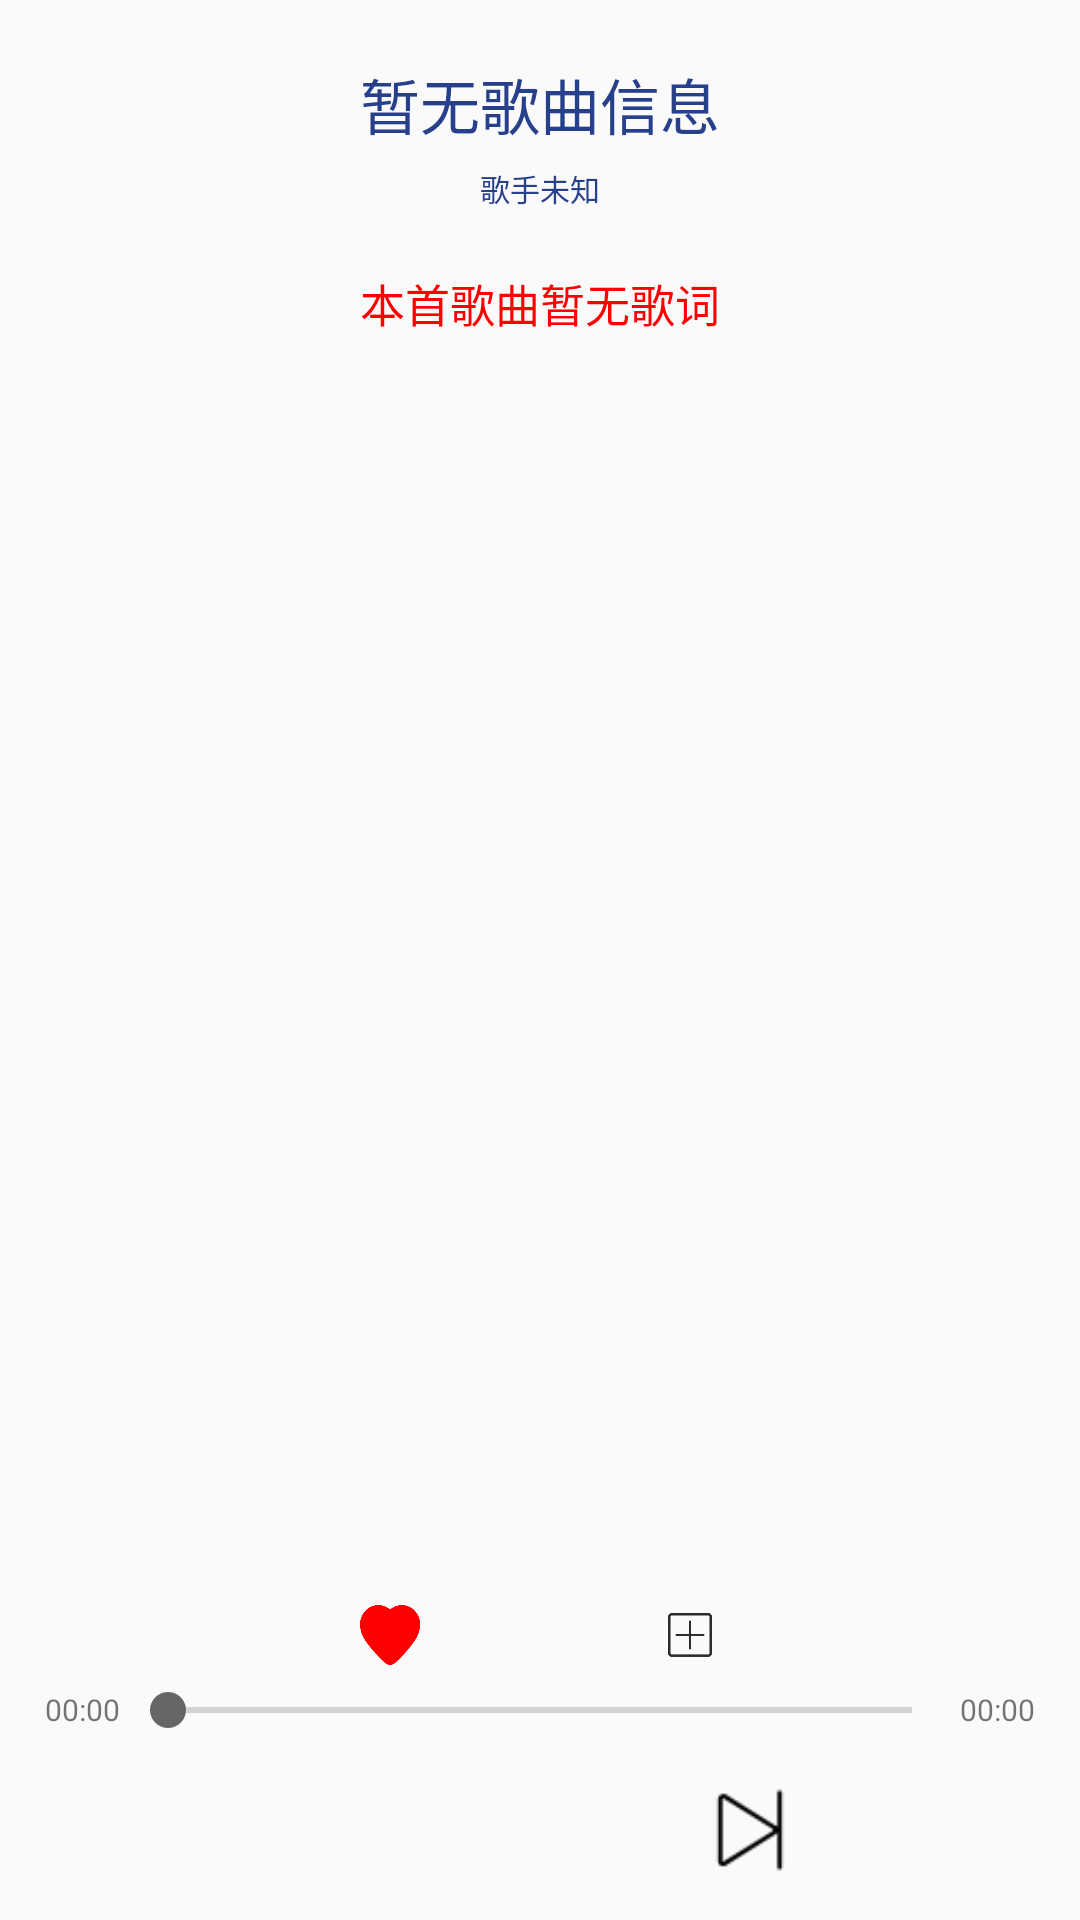

Point at icon controls on the screen. Image size 1080 × 1920, points as [x,y].
add: [690,1635]
love: [390,1635]
nextmusic: [750,1830]
